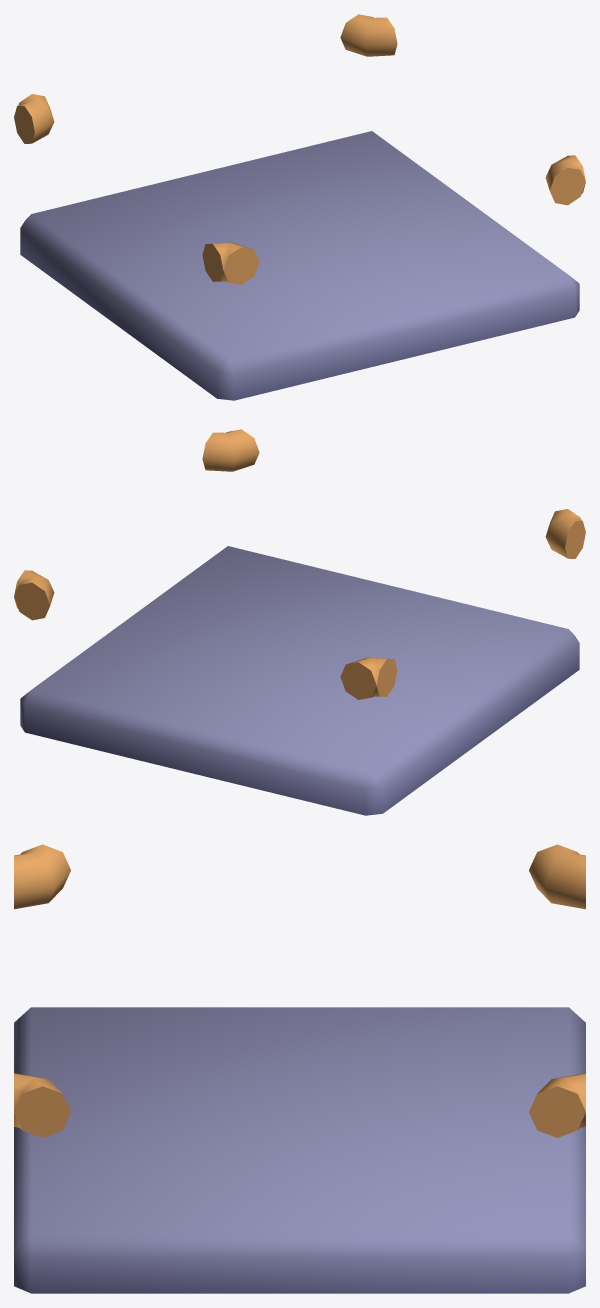
The model's file is catwalk-cross.glb.
3 renders of one model, top to bottom at view 1: azimuth 30°, elevation 25°; view 2: azimuth 150°, elevation 25°; view 3: azimuth 270°, elevation 25°, orthographic. The views are drawn at different scales.
Parts seen in each view (by area): view 1: catwalk-cross; view 2: catwalk-cross; view 3: catwalk-cross.
Boxes of the visible parts, x1,y1,x2,y2 form: catwalk-cross: (14,14,585,400); catwalk-cross: (14,429,585,815); catwalk-cross: (14,844,585,1293).
Bounding box in the file's own units: 1 × 0.4 × 1.
1 material, 1 textured.
